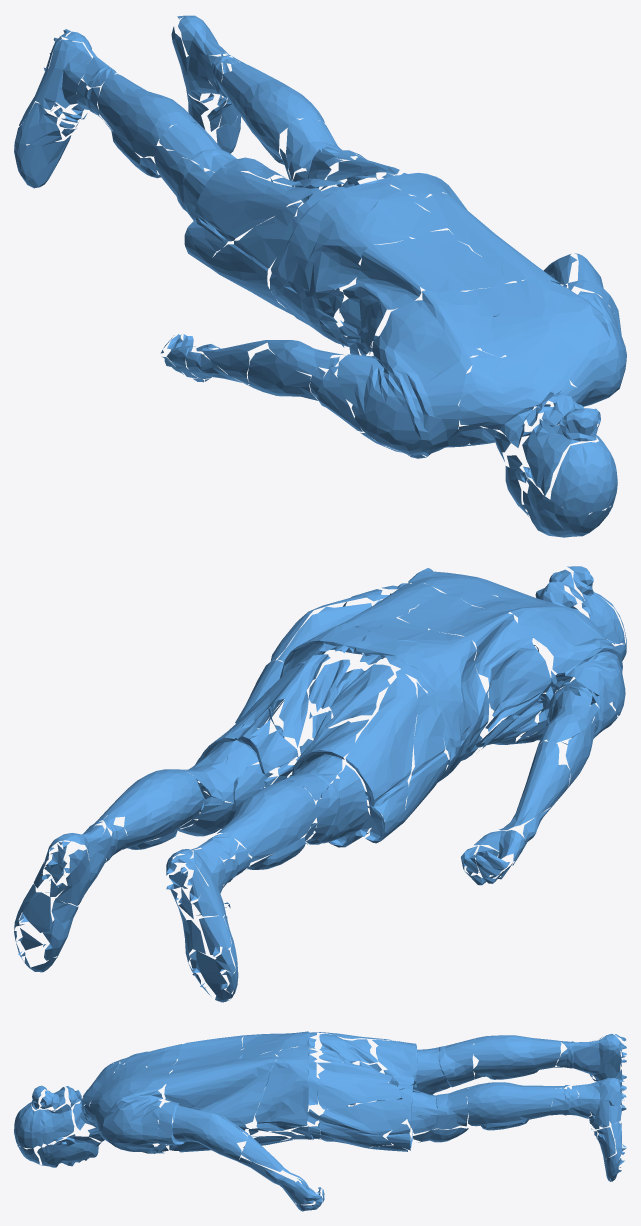
3 renders of one model, top to bottom at view 1: azimuth 30°, elevation 25°; view 2: azimuth 150°, elevation 25°; view 3: azimuth 270°, elevation 25°, orthographic. The views are drawn at different scales.
Visible parts, largest first — view 1: world; view 2: world; view 3: world.
Part boxes in pixels (left/top/right/bottom): world: left=14, top=15, right=626, bottom=537; world: left=14, top=566, right=626, bottom=1002; world: left=14, top=1031, right=626, bottom=1211.
Size of the model in its own units: 0.00705 by 0.00394 by 0.017.
